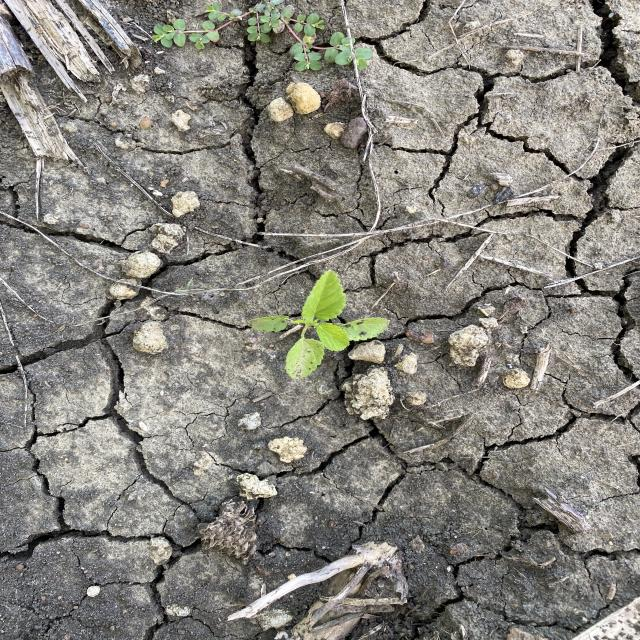PricklySida: (244, 268, 394, 381)
SpottedSpurge: (145, 2, 377, 74)
